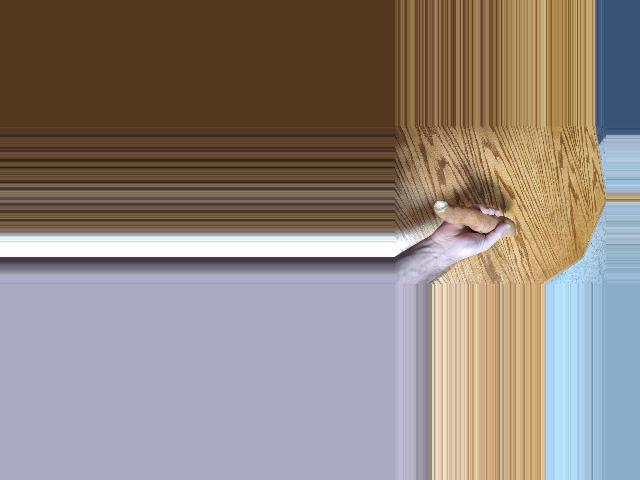sweet_potato: (428, 201, 519, 235)
